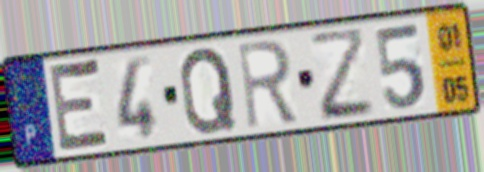4: (113, 54, 162, 143)
5: (372, 20, 429, 113)
E: (47, 55, 114, 157)
Q: (177, 44, 240, 139)
R: (234, 36, 301, 133)
Z: (306, 23, 378, 125)
